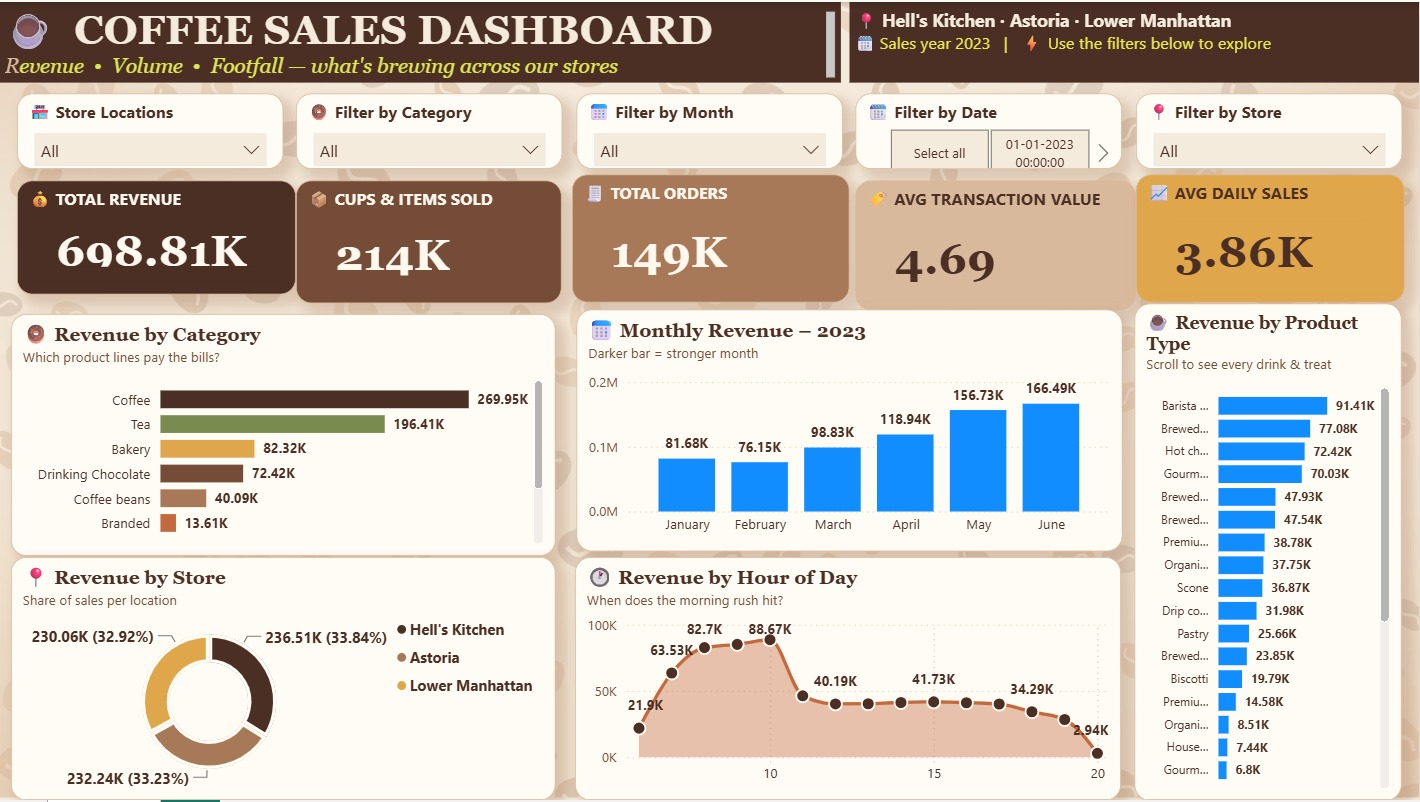

Layout of this report page (visuals, bound fields, positions):
{"tool":"powerbi","page":{"name":"Page 1","canvas":[1280,720],"ordinal":0},"visuals":[{"type":"textbox","box":[0,0,758.6,72.7],"z":1000},{"type":"textbox","box":[766.2,0,513.3,72.7],"z":2000},{"type":"slicer","title":"🏪  Store Locations","fields":{"Values":["Transactions.store_location"]},"box":[16,82,240,68],"z":3000},{"type":"slicer","title":"🍩  Filter by Category","fields":{"Values":["Transactions.product_category"]},"box":[268,82,240,68],"z":4000},{"type":"slicer","title":"📅  Filter by Month","fields":{"Values":["Date Table.Month Name"]},"box":[520,82,240,68],"z":5000},{"type":"slicer","title":"🗓️  Filter by Date","fields":{"Values":["Date Table.Date"]},"box":[772,82,240,68],"z":6000},{"type":"slicer","title":"📍  Filter by Store","fields":{"Values":["Transactions.store_location"]},"box":[1024,82,240,68],"z":7000},{"type":"cardVisual","title":"💰  TOTAL REVENUE","fields":{"Data":["Transactions.Total Revenue"]},"box":[16.7,160.5,251.4,103],"z":8000},{"type":"cardVisual","title":"📦  CUPS & ITEMS SOLD","fields":{"Data":["Transactions.Total Quantity"]},"box":[268,160.5,239.2,110.5],"z":9000},{"type":"cardVisual","title":"🧾  TOTAL ORDERS","fields":{"Data":["Transactions.Total Transactions"]},"box":[516.3,156,249.8,115.1],"z":10000},{"type":"cardVisual","title":"🏷️  AVG TRANSACTION VALUE","fields":{"Data":["Transactions.Average Transaction Value"]},"box":[772.2,160.5,252.9,116.6],"z":11000},{"type":"cardVisual","title":"📈  AVG DAILY SALES","fields":{"Data":["Transactions.Average Daily Sales"]},"box":[1025.1,156,242.3,115.1],"z":12000},{"type":"clusteredBarChart","title":"🍩  Revenue by Category","fields":{"Category":["Transactions.product_category"],"Y":["Transactions.Total Revenue"]},"box":[10.6,281.6,490.6,218],"z":13000},{"type":"clusteredColumnChart","title":"📅  Monthly Revenue – 2023","fields":{"Category":["Date Table.Month Name"],"Y":["Transactions.Total Revenue"]},"box":[520.9,277.1,492.1,218],"z":14000},{"type":"donutChart","title":"📍  Revenue by Store","fields":{"Category":["Transactions.store_location"],"Y":["Transactions.Total Revenue"]},"box":[10.6,499.7,490.6,219.6],"z":15000},{"type":"lineChart","title":"🕐  Revenue by Hour of Day","fields":{"Category":["Transactions.Transaction Hour"],"Y":["Transactions.Total Revenue"]},"box":[519.4,499.7,492.1,219.6],"z":16000},{"type":"clusteredBarChart","title":"☕  Revenue by Product Type","fields":{"Category":["Transactions.product_type"],"Y":["Transactions.Total Revenue"]},"box":[1023.6,271,240.8,448.2],"z":17000}]}

Visuals, with their boxes in screenshot pixels (x1, y1, x2, y2), scaled from the page's 1280x720 canvas onto the 1420x802 screenshot:
textbox: box(0, 0, 842, 81)
textbox: box(850, 0, 1419, 81)
"🏪  Store Locations" slicer: box(18, 91, 284, 167)
"🍩  Filter by Category" slicer: box(297, 91, 564, 167)
"📅  Filter by Month" slicer: box(577, 91, 843, 167)
"🗓️  Filter by Date" slicer: box(856, 91, 1123, 167)
"📍  Filter by Store" slicer: box(1136, 91, 1402, 167)
"💰  TOTAL REVENUE" cardVisual: box(19, 179, 297, 294)
"📦  CUPS & ITEMS SOLD" cardVisual: box(297, 179, 563, 302)
"🧾  TOTAL ORDERS" cardVisual: box(573, 174, 850, 302)
"🏷️  AVG TRANSACTION VALUE" cardVisual: box(857, 179, 1137, 309)
"📈  AVG DAILY SALES" cardVisual: box(1137, 174, 1406, 302)
"🍩  Revenue by Category" clusteredBarChart: box(12, 314, 556, 556)
"📅  Monthly Revenue – 2023" clusteredColumnChart: box(578, 309, 1124, 551)
"📍  Revenue by Store" donutChart: box(12, 557, 556, 801)
"🕐  Revenue by Hour of Day" lineChart: box(576, 557, 1122, 801)
"☕  Revenue by Product Type" clusteredBarChart: box(1136, 302, 1403, 801)
